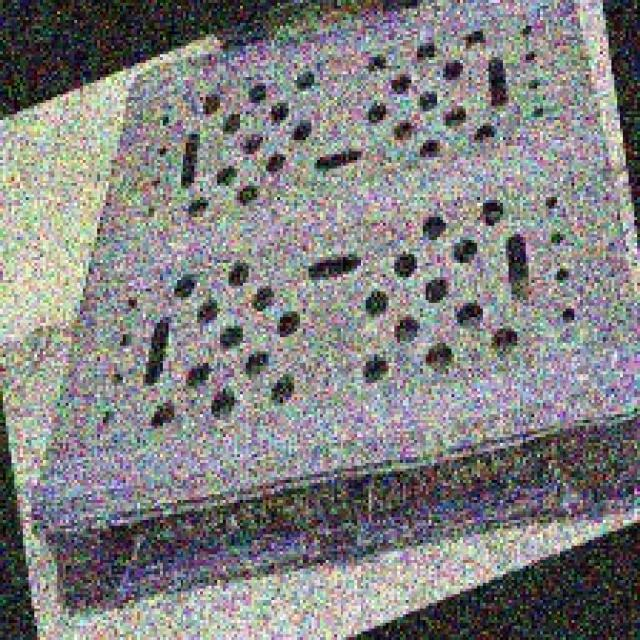igps: (20, 0, 640, 626)
